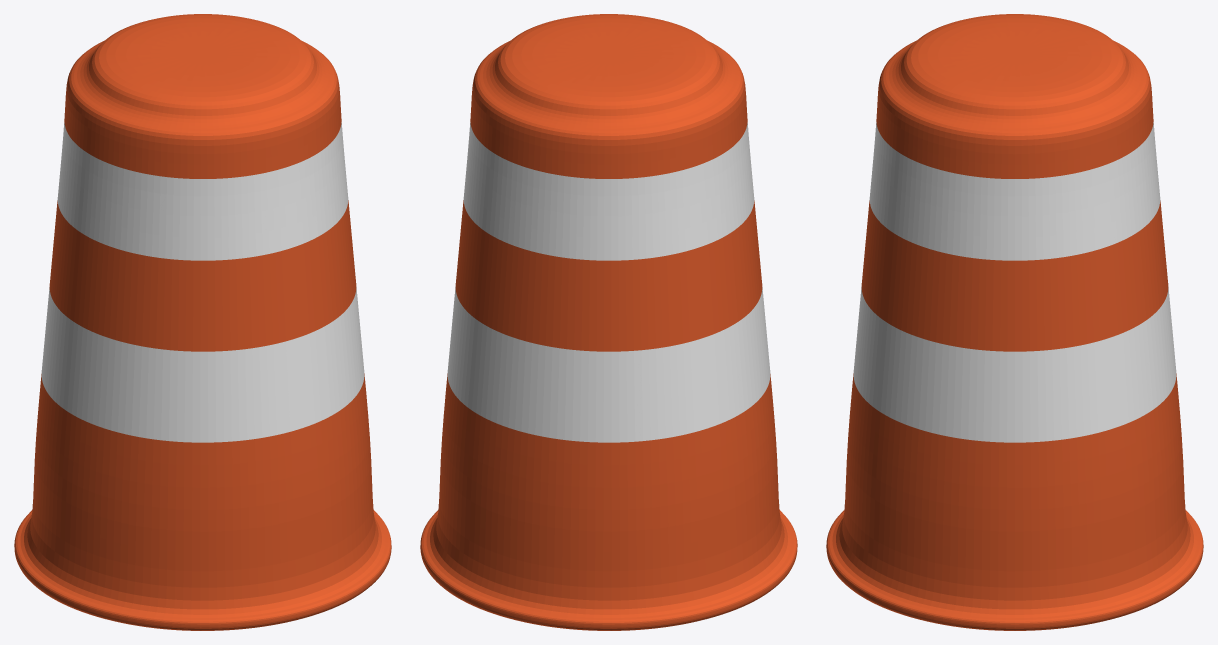
File: Drum_RedAndWhite.fbx
The picture shows the model from 3 angles, left to right: view 1: azimuth 30°, elevation 25°; view 2: azimuth 150°, elevation 25°; view 3: azimuth 270°, elevation 25°; orthographic projection.
Visible parts, largest first — view 1: Traffic Cone.001; view 2: Traffic Cone.001; view 3: Traffic Cone.001.
Part boxes in pixels (left/top/right/bottom): Traffic Cone.001: left=14, top=14, right=391, bottom=630; Traffic Cone.001: left=420, top=14, right=797, bottom=630; Traffic Cone.001: left=826, top=14, right=1203, bottom=630.
Size of the model in its own units: 66.57 by 98.24 by 66.57.
